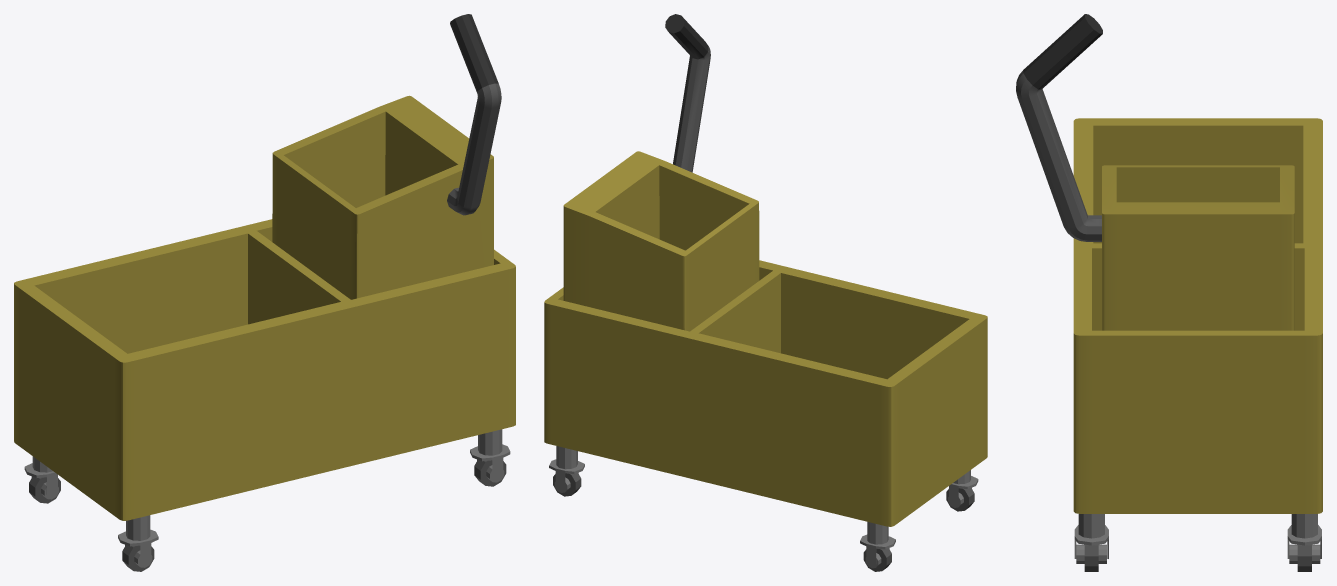
The model's file is janitorBucket.fbx.
3 views of the same model, side by side, from view 1: azimuth 30°, elevation 25°; view 2: azimuth 150°, elevation 25°; view 3: azimuth 270°, elevation 25° (orthographic). The views are drawn at different scales.
Parts seen in each view (by area): view 1: pCube1, pCylinder7, pCylinder6, pCylinder3, pCylinder4; view 2: pCube1, pCylinder7, pCylinder5, pCylinder4, pCylinder3; view 3: pCube1, pCylinder7, pCylinder5, pCylinder6.
Boxes of the visible parts, x1,y1,x2,y2 form: pCube1: (14, 95, 515, 520); pCylinder7: (447, 14, 501, 215); pCylinder6: (470, 429, 510, 486); pCylinder3: (118, 515, 158, 571); pCylinder4: (24, 456, 60, 503); pCube1: (544, 151, 987, 526); pCylinder7: (665, 14, 710, 172); pCylinder5: (549, 446, 584, 496); pCylinder4: (860, 522, 895, 571); pCylinder3: (946, 470, 978, 511); pCube1: (1073, 118, 1322, 513); pCylinder7: (1016, 14, 1102, 241); pCylinder5: (1287, 514, 1321, 571); pCylinder6: (1074, 514, 1108, 571).
Size of the model in its own units: 19.64 by 22.71 by 11.71.
